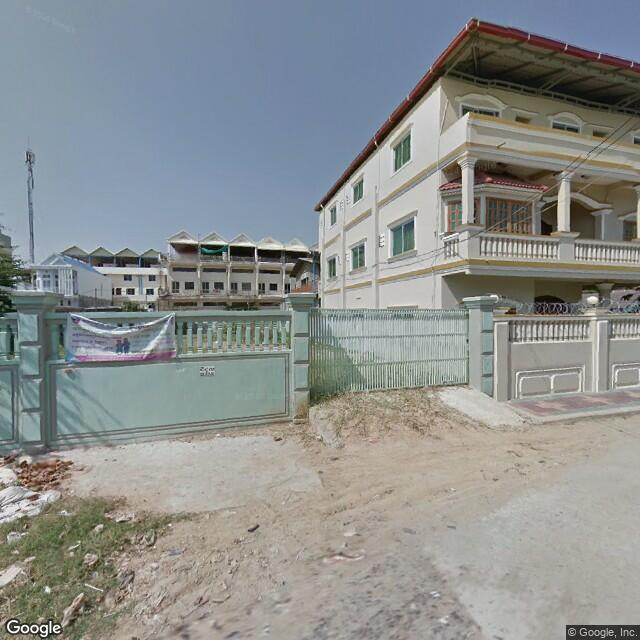litter: (99, 506, 142, 527), (61, 535, 84, 555), (140, 527, 157, 550), (428, 583, 441, 605), (38, 581, 55, 597)
